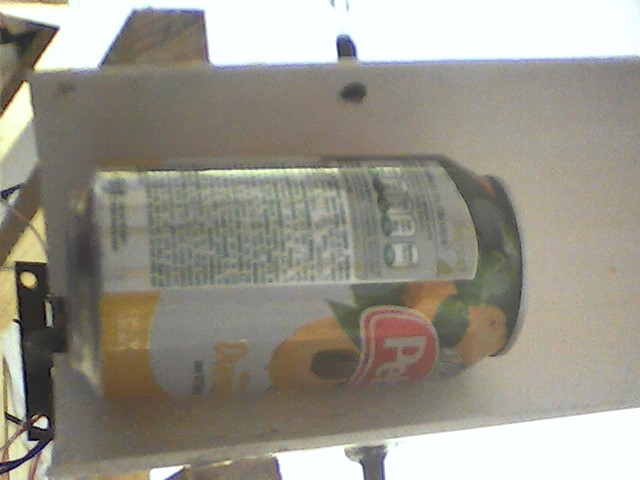lata: (50, 154, 540, 408)
